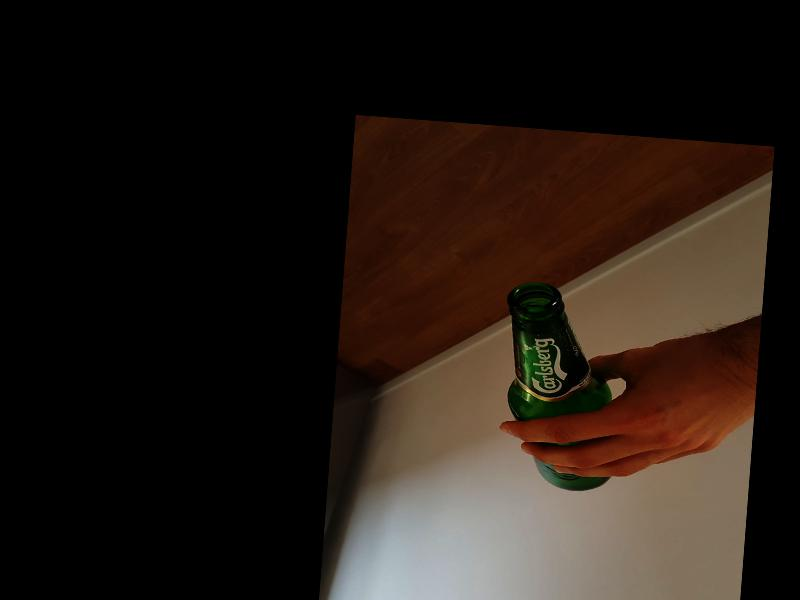Beer: (494, 279, 620, 492)
